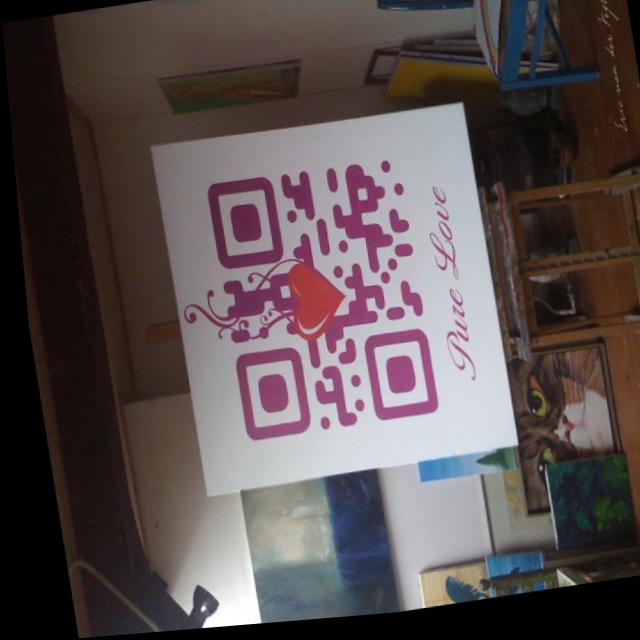qrcode: (201, 162, 433, 447)
